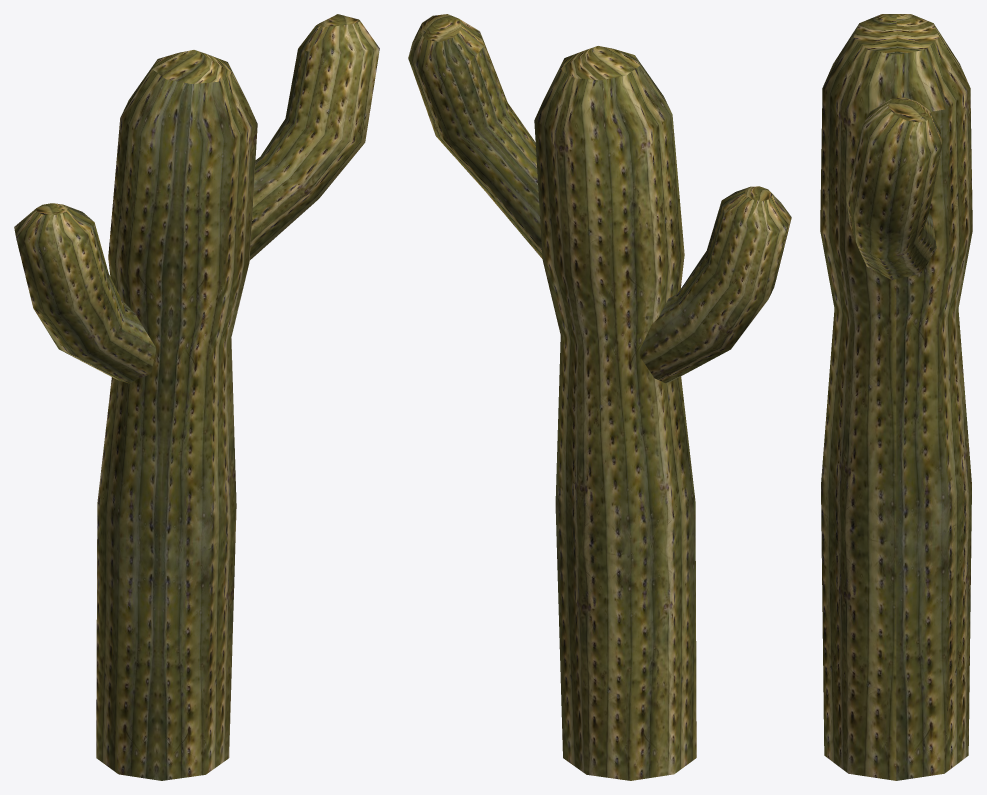
File: Cactus03.FBX
3 renders of one model, left to right at view 1: azimuth 30°, elevation 25°; view 2: azimuth 150°, elevation 25°; view 3: azimuth 270°, elevation 25°, orthographic. The views are drawn at different scales.
Parts seen in each view (by area): view 1: Cactus01; view 2: Cactus01; view 3: Cactus01.
Part boxes in pixels (x1,y1,x2,y2): Cactus01: (14,14,379,780); Cactus01: (408,14,791,780); Cactus01: (820,14,972,780).
Size of the model in its own units: 57.92 by 105 by 19.32.
